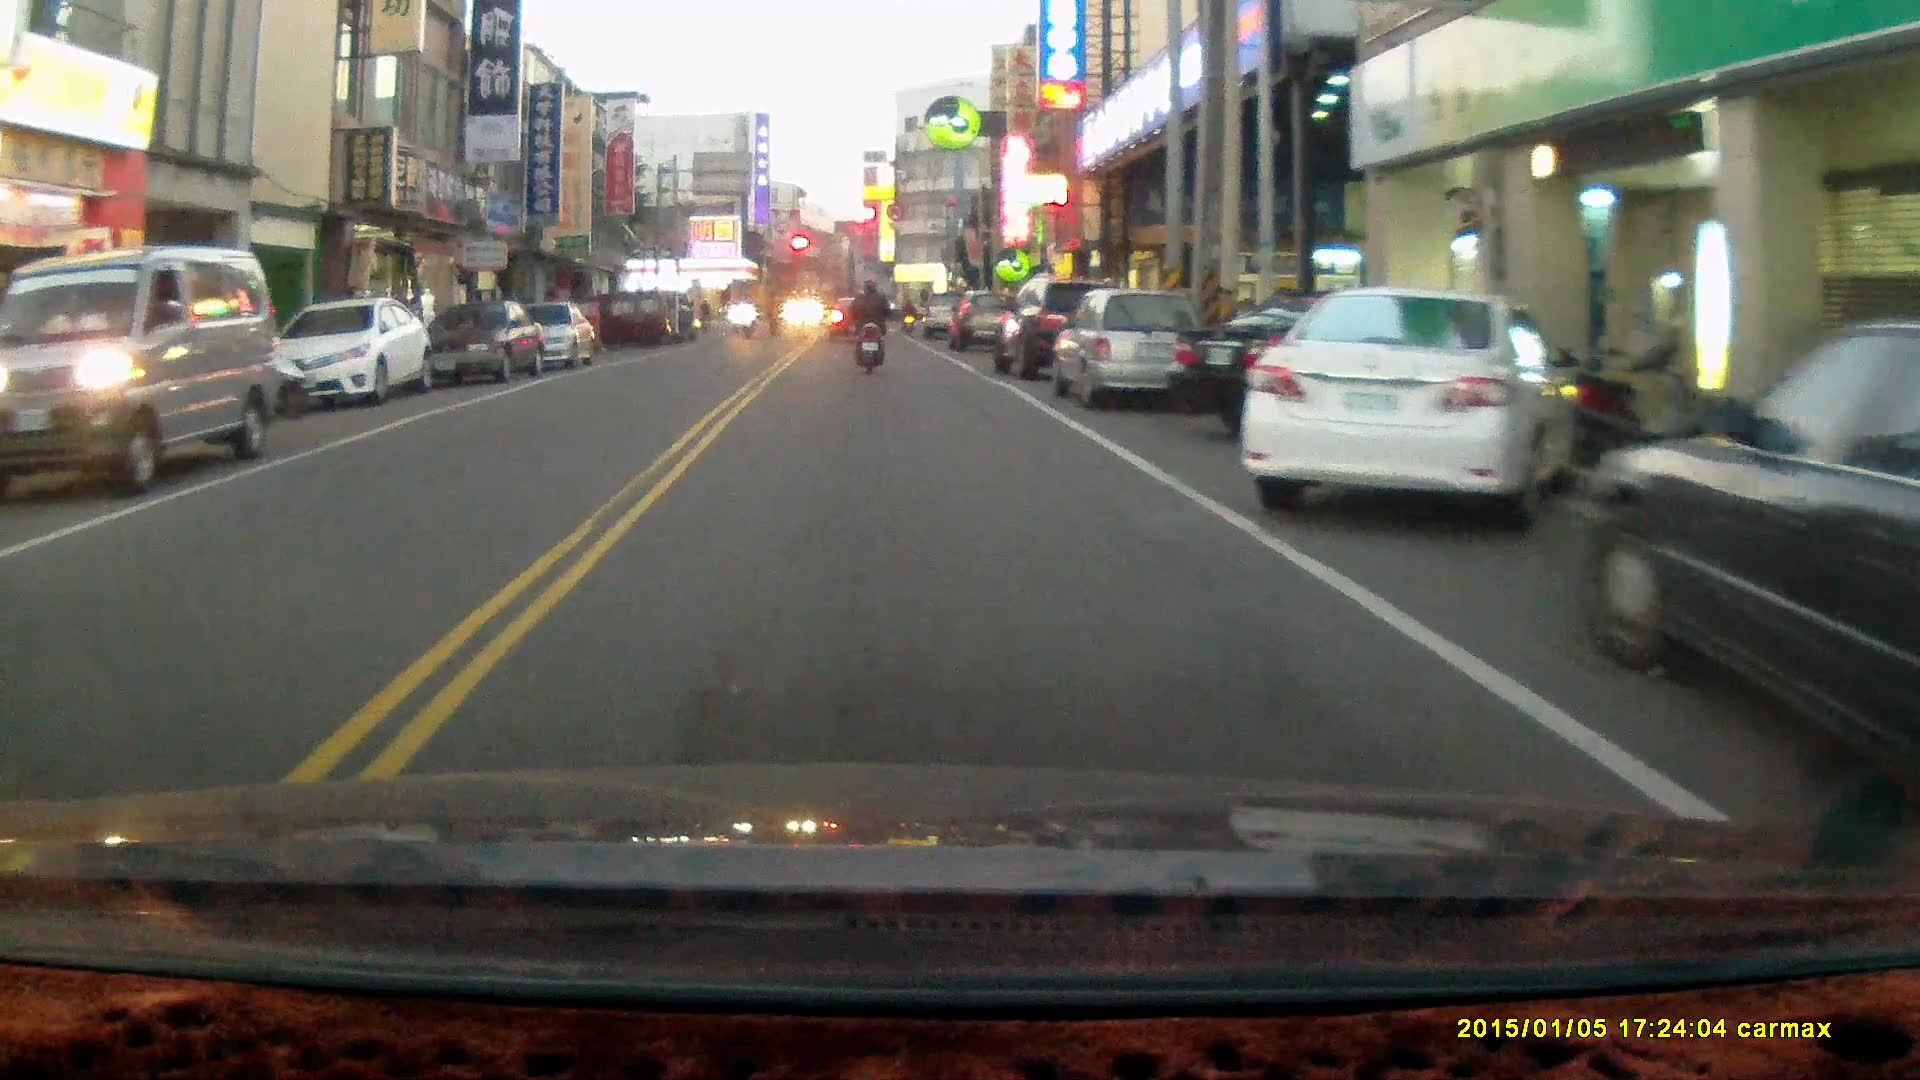rider: (255, 331, 308, 421), (847, 275, 891, 376), (733, 295, 756, 339)
vehicle: (1562, 316, 1920, 804), (1244, 289, 1576, 531), (3, 241, 291, 489), (1165, 295, 1521, 443), (1052, 287, 1215, 406), (272, 294, 431, 408), (988, 286, 1129, 377), (417, 297, 548, 384), (491, 300, 593, 374)
